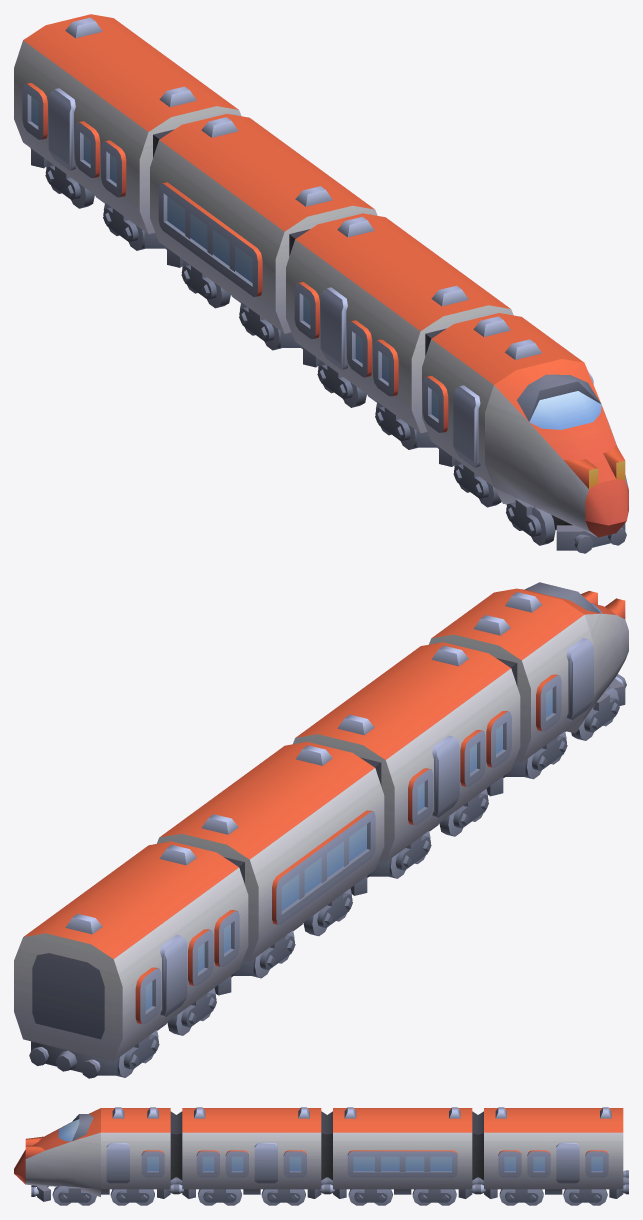
File: train-transformed.glb
The picture shows the model from 3 angles, top to bottom: view 1: azimuth 30°, elevation 25°; view 2: azimuth 150°, elevation 25°; view 3: azimuth 270°, elevation 25°; orthographic projection. The views are drawn at different scales.
Visible parts, largest first — view 1: train-electric-bullet-a; view 2: train-electric-bullet-a; view 3: train-electric-bullet-a.
Boxes of the visible parts, <box> form: train-electric-bullet-a: <box>14,14,628,553</box>; train-electric-bullet-a: <box>14,582,628,1078</box>; train-electric-bullet-a: <box>14,1107,628,1205</box>.
Bounding box in the file's own units: 1.32 × 1.64 × 10.6.
1 material, 1 textured.
